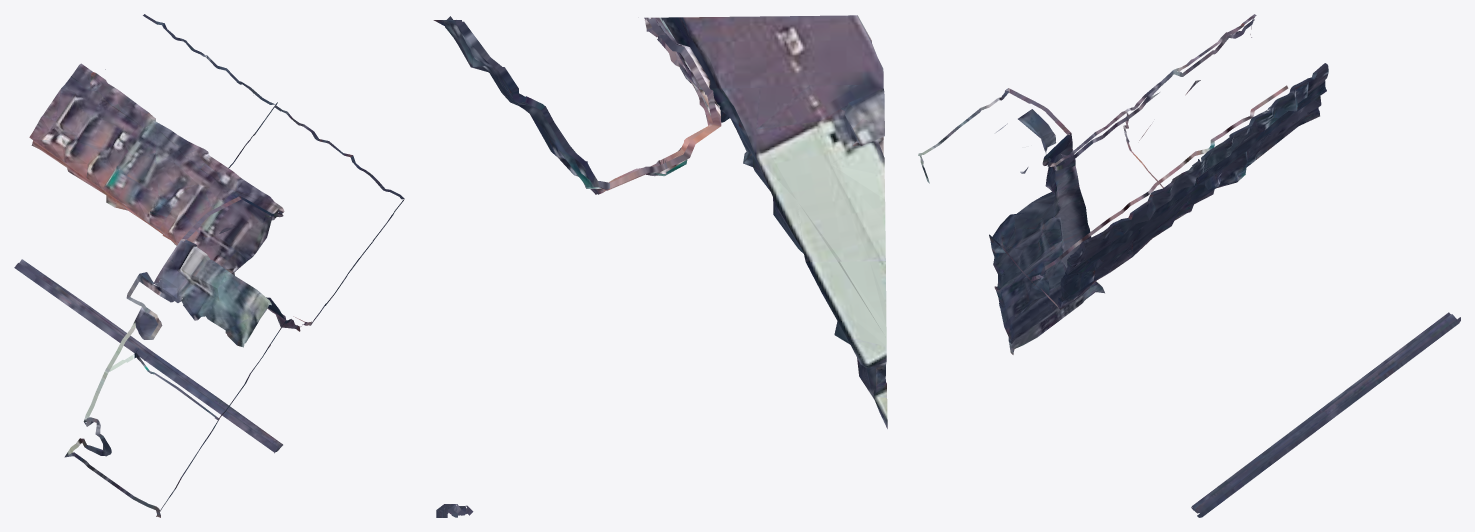
The picture shows the model from 3 angles, left to right: view 1: azimuth 30°, elevation 25°; view 2: azimuth 150°, elevation 25°; view 3: azimuth 270°, elevation 25°; orthographic projection. The views are drawn at different scales.
Size of the model in its own units: 41.73 by 50.31 by 59.55.
2 materials, 2 textured.
